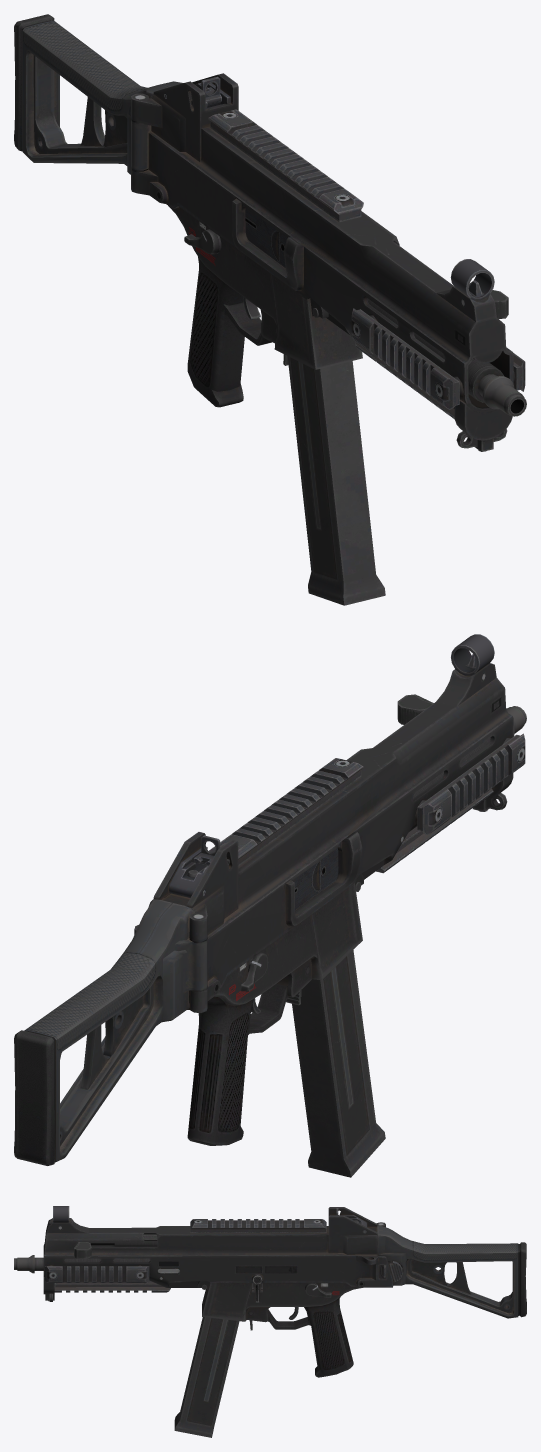
The model's file is raw.glb.
3 renders of one model, top to bottom at view 1: azimuth 30°, elevation 25°; view 2: azimuth 150°, elevation 25°; view 3: azimuth 270°, elevation 25°, orthographic. The views are drawn at different scales.
Parts seen in each view (by area): view 1: leva_ump45_LOD0; view 2: leva_ump45_LOD0; view 3: leva_ump45_LOD0.
Boxes of the visible parts, bbox=[...] form: leva_ump45_LOD0: bbox=[14, 14, 526, 605]; leva_ump45_LOD0: bbox=[14, 634, 526, 1177]; leva_ump45_LOD0: bbox=[14, 1206, 526, 1437].
Bounding box in the file's own units: 0.0645 × 0.2857 × 0.5884.
Materials: 1 (1 with a texture image).
